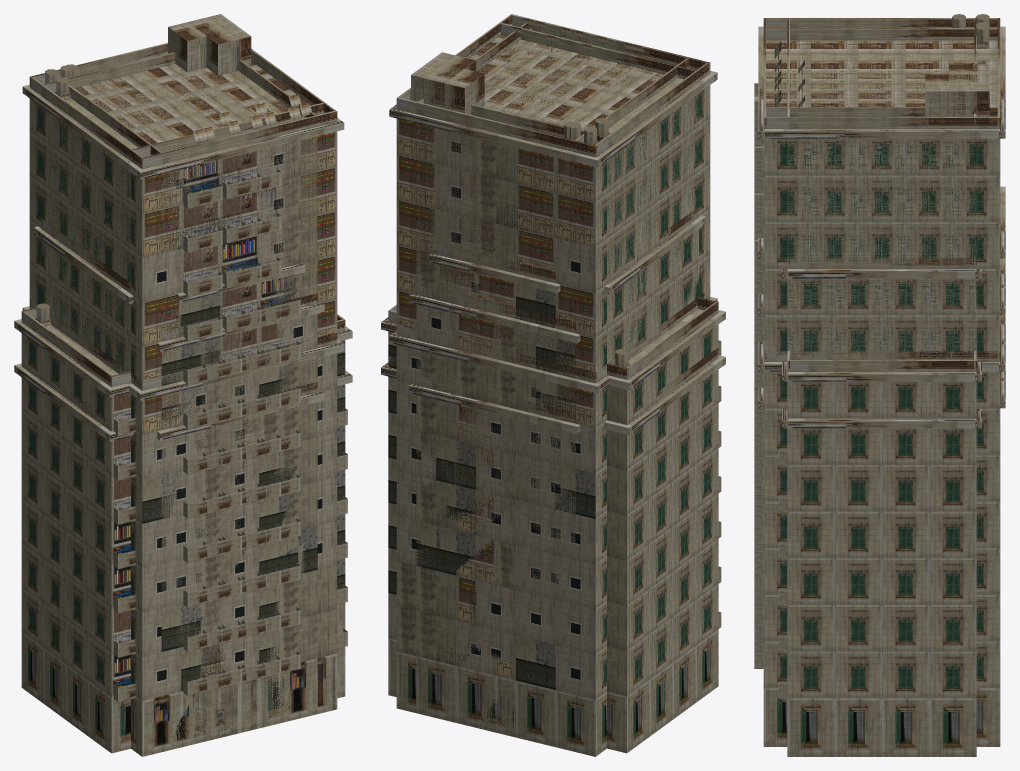
3 views of the same model, side by side, from view 1: azimuth 30°, elevation 25°; view 2: azimuth 150°, elevation 25°; view 3: azimuth 270°, elevation 25° (orthographic). The views are drawn at different scales.
Visible parts, largest first — view 1: Khedivial_5x5_f12_v1, Khedivial_6x4_f7_v1, Khedivial_5x5_f7_v0, Khedivial_4x5_f12_v1, Khedivial_3x5_f7_v1, Khedivial_4x5_f6_v0, Khedivial_4x5_f8_v0, Khedivial_5x4_f12_v0, Khedivial_2x5_f8_v0, Khedivial_3x5_f9_v0, Khedivial_5x4_f9_v0, Khedivial_6x4_f6_v1 (+1 smaller); view 2: Khedivial_5x5_f12_v1, Khedivial_6x4_f7_v1, Khedivial_5x5_f7_v0, Khedivial_3x5_f7_v1, Khedivial_4x5_f12_v1, Khedivial_2x5_f8_v0, Khedivial_4x5_f6_v0, Khedivial_5x4_f12_v0, Khedivial_5x4_f9_v0, Khedivial_4x5_f8_v0, Khedivial_3x5_f9_v0, Khedivial_6x4_f6_v1 (+1 smaller); view 3: Khedivial_6x4_f7_v1, Khedivial_5x5_f12_v1, Khedivial_5x4_f12_v0, Khedivial_5x5_f7_v0, Khedivial_5x4_f9_v0, Khedivial_4x5_f12_v1, Khedivial_6x4_f6_v1, Khedivial_3x5_f9_v0, Khedivial_4x5_f8_v0, Khedivial_5x3_f7_v0.
Part boxes in pixels (x1=…): Khedivial_5x5_f12_v1: x1=22, y1=14, x2=344, y2=390; Khedivial_6x4_f7_v1: x1=14, y1=303, x2=352, y2=753; Khedivial_5x5_f7_v0: x1=22, y1=298, x2=344, y2=756; Khedivial_4x5_f12_v1: x1=58, y1=20, x2=319, y2=341; Khedivial_3x5_f7_v1: x1=178, y1=352, x2=304, y2=746; Khedivial_4x5_f6_v0: x1=157, y1=382, x2=324, y2=748; Khedivial_4x5_f8_v0: x1=157, y1=293, x2=324, y2=691; Khedivial_5x4_f12_v0: x1=34, y1=22, x2=324, y2=288; Khedivial_2x5_f8_v0: x1=199, y1=305, x2=285, y2=742; Khedivial_3x5_f9_v0: x1=177, y1=254, x2=305, y2=676; Khedivial_5x4_f9_v0: x1=34, y1=218, x2=133, y2=373; Khedivial_6x4_f6_v1: x1=14, y1=356, x2=352, y2=648; Khedivial_5x5_f12_v1: x1=389, y1=14, x2=717, y2=382; Khedivial_6x4_f7_v1: x1=381, y1=297, x2=725, y2=753; Khedivial_5x5_f7_v0: x1=389, y1=289, x2=717, y2=756; Khedivial_3x5_f7_v1: x1=429, y1=334, x2=558, y2=746; Khedivial_4x5_f12_v1: x1=409, y1=19, x2=689, y2=331; Khedivial_2x5_f8_v0: x1=449, y1=293, x2=539, y2=736; Khedivial_4x5_f6_v0: x1=409, y1=374, x2=580, y2=722; Khedivial_5x4_f12_v0: x1=408, y1=22, x2=698, y2=283; Khedivial_5x4_f9_v0: x1=604, y1=211, x2=705, y2=364; Khedivial_4x5_f8_v0: x1=409, y1=284, x2=580, y2=422; Khedivial_3x5_f9_v0: x1=429, y1=243, x2=560, y2=372; Khedivial_6x4_f6_v1: x1=381, y1=347, x2=725, y2=434; Khedivial_6x4_f7_v1: x1=782, y1=343, x2=981, y2=756; Khedivial_5x5_f12_v1: x1=754, y1=14, x2=1005, y2=361; Khedivial_5x4_f12_v0: x1=782, y1=14, x2=981, y2=268; Khedivial_5x5_f7_v0: x1=754, y1=343, x2=1005, y2=746; Khedivial_5x4_f9_v0: x1=782, y1=258, x2=981, y2=359; Khedivial_4x5_f12_v1: x1=754, y1=25, x2=1005, y2=281; Khedivial_6x4_f6_v1: x1=778, y1=407, x2=981, y2=698; Khedivial_3x5_f9_v0: x1=754, y1=186, x2=1005, y2=668; Khedivial_4x5_f8_v0: x1=754, y1=287, x2=1005, y2=653; Khedivial_5x3_f7_v0: x1=811, y1=351, x2=952, y2=359.
Size of the model in its own units: 21.8 by 53.1 by 18.6.
Materials: 1 (1 with a texture image).
